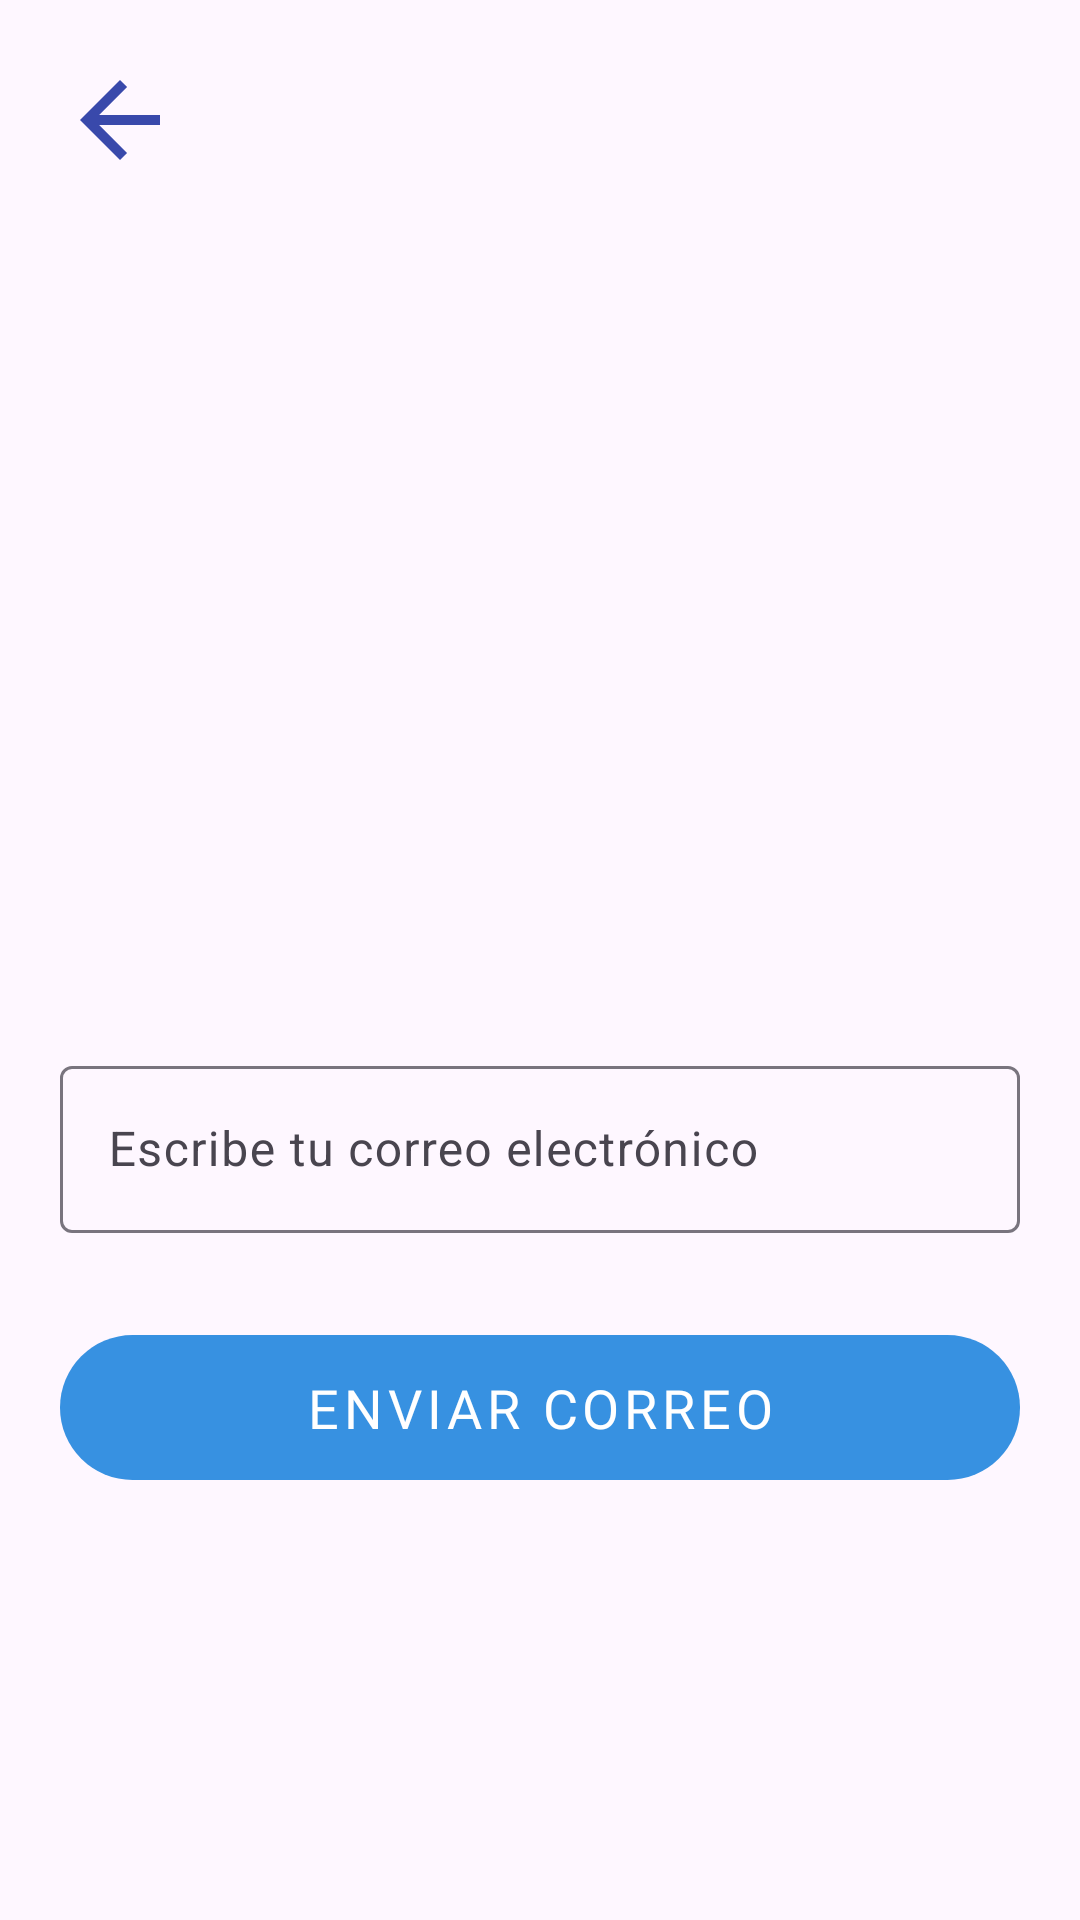

Point at icon controls on the screen. Image size 1080 x 1920, points as point (x, y).
arrow back: point (120, 120)
